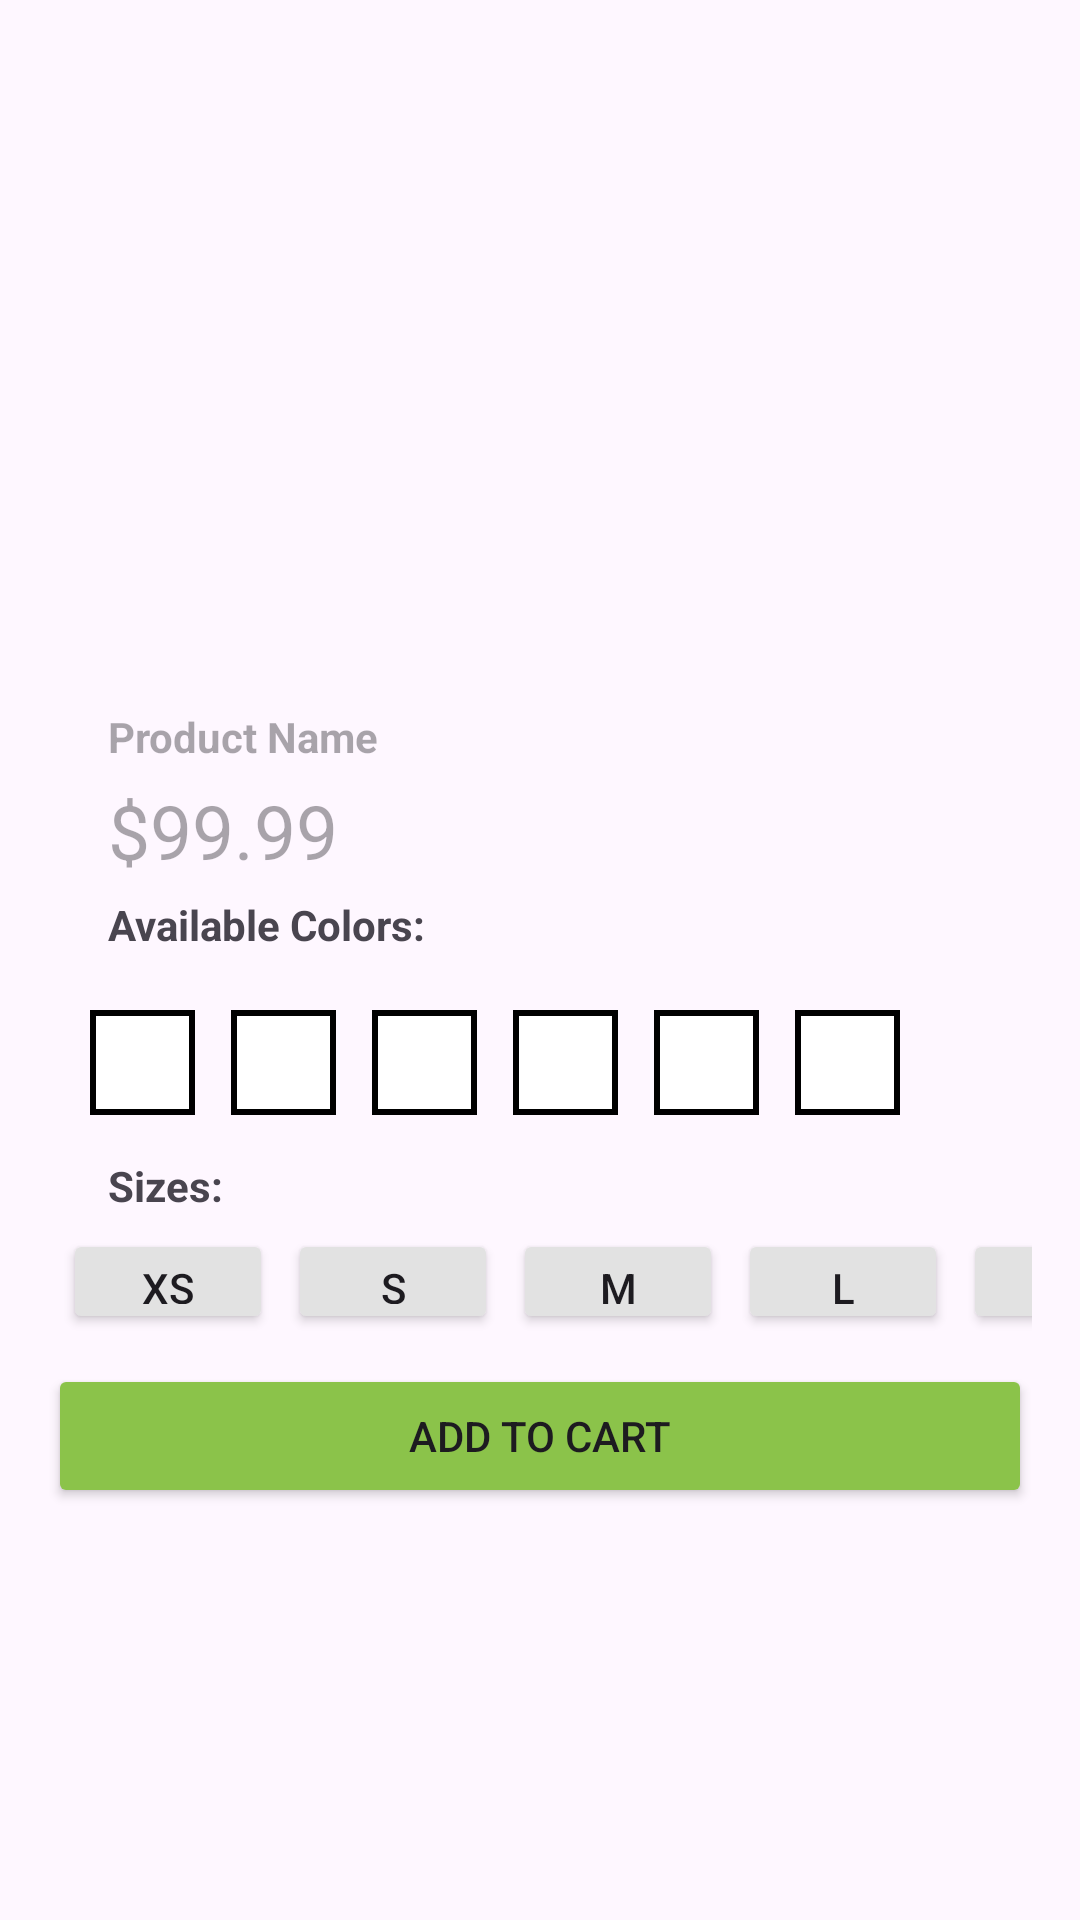

Where icons sit on this 1080x1920 app screen, as (left=x1, top=y1, right=x2, bottom=y2):
square: (left=90, top=1010, right=195, bottom=1115), (left=231, top=1010, right=336, bottom=1115), (left=372, top=1010, right=477, bottom=1115), (left=513, top=1010, right=618, bottom=1115), (left=654, top=1010, right=759, bottom=1115), (left=795, top=1010, right=900, bottom=1115)
